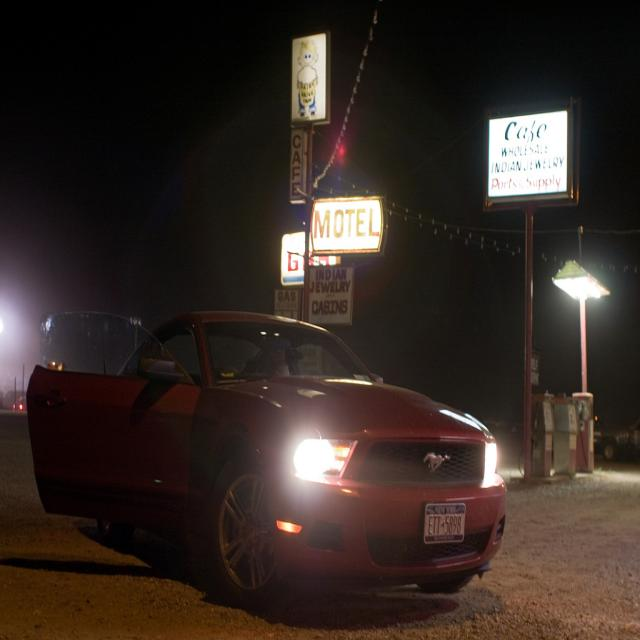Car: (38, 302, 508, 612)
